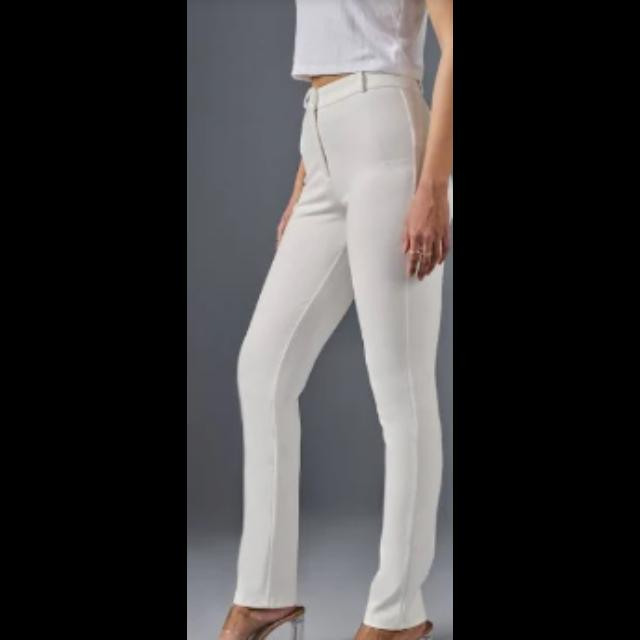bottom: (238, 84, 438, 610)
